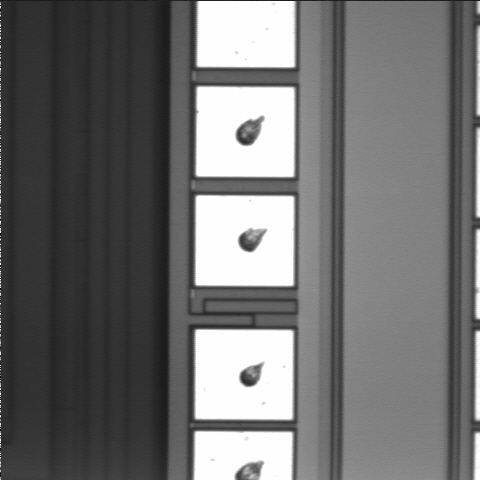pad: (196, 195, 294, 286), (196, 87, 295, 177), (195, 330, 293, 420)
